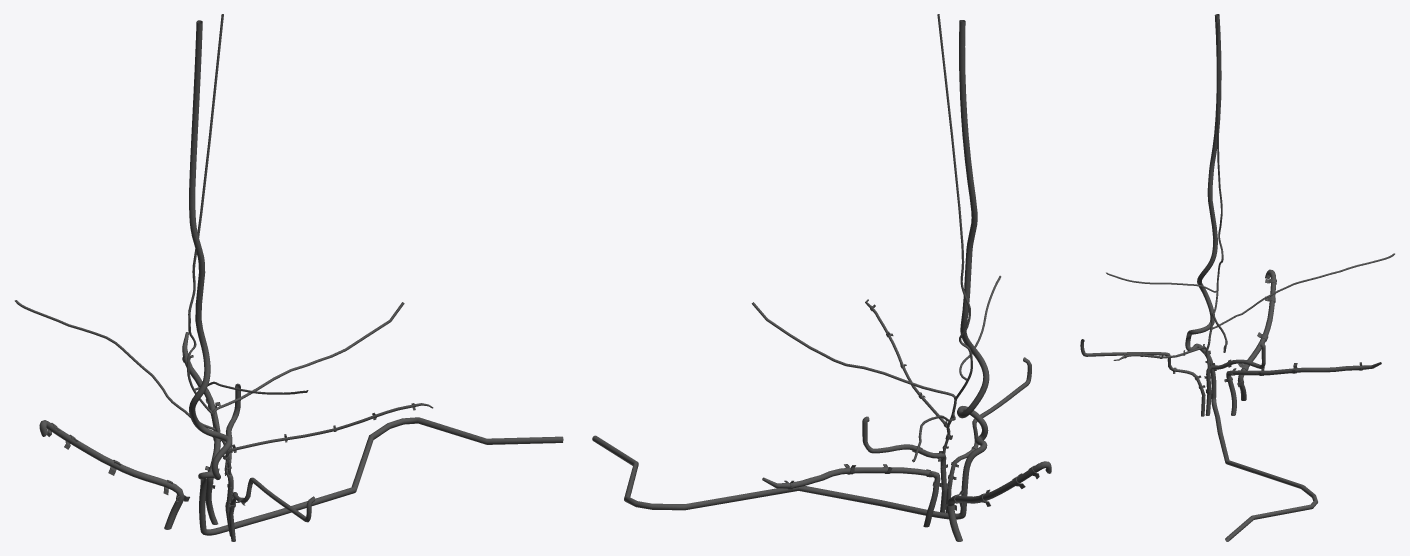
File: field_spring_pipe.fbx
3 renders of one model, left to right at view 1: azimuth 30°, elevation 25°; view 2: azimuth 150°, elevation 25°; view 3: azimuth 270°, elevation 25°, orthographic. The views are drawn at different scales.
Visible parts, largest first — view 1: field_spring_pipe; view 2: field_spring_pipe; view 3: field_spring_pipe.
Part boxes in pixels (x1,y1,x2,y2): field_spring_pipe: [14, 14, 563, 541]; field_spring_pipe: [592, 14, 1051, 541]; field_spring_pipe: [1080, 14, 1394, 541].
Bounding box in the file's own units: 4412 × 4414 × 3208.
1 material, 1 textured.
